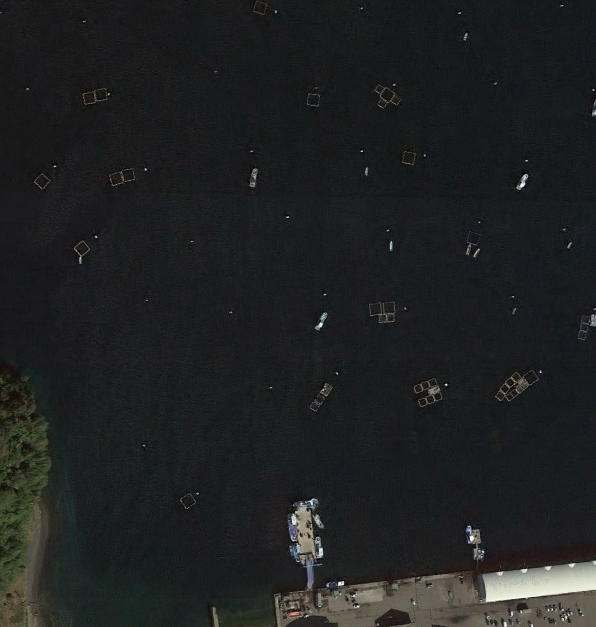ship: (510, 167, 534, 194), (310, 309, 333, 336), (245, 164, 261, 190)
square: (396, 145, 421, 171), (247, 1, 277, 22), (304, 91, 331, 114), (70, 239, 96, 261), (105, 169, 127, 194), (178, 490, 200, 514), (91, 85, 114, 107), (30, 173, 54, 194), (118, 165, 140, 187), (79, 89, 99, 113), (464, 229, 483, 250)
